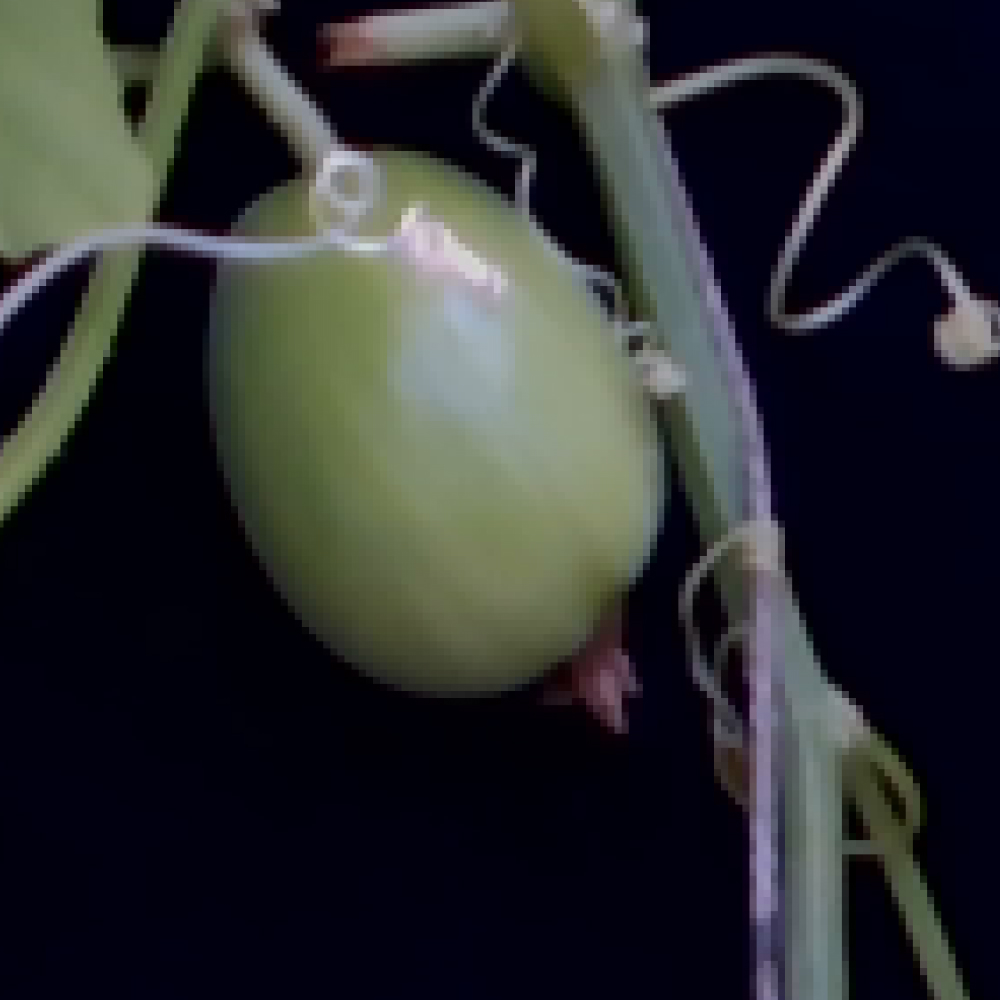melon: (204, 145, 669, 709)
